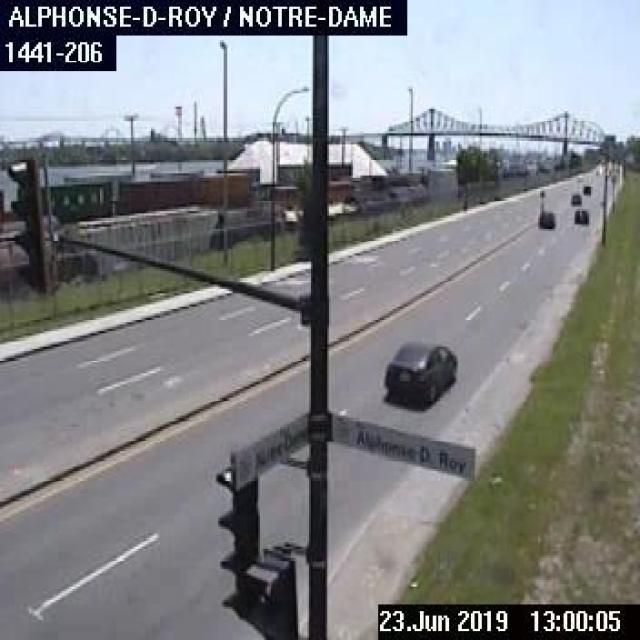vehicle: (382, 338, 458, 404), (536, 209, 554, 229), (572, 208, 588, 223), (569, 192, 581, 205), (581, 183, 591, 194)
